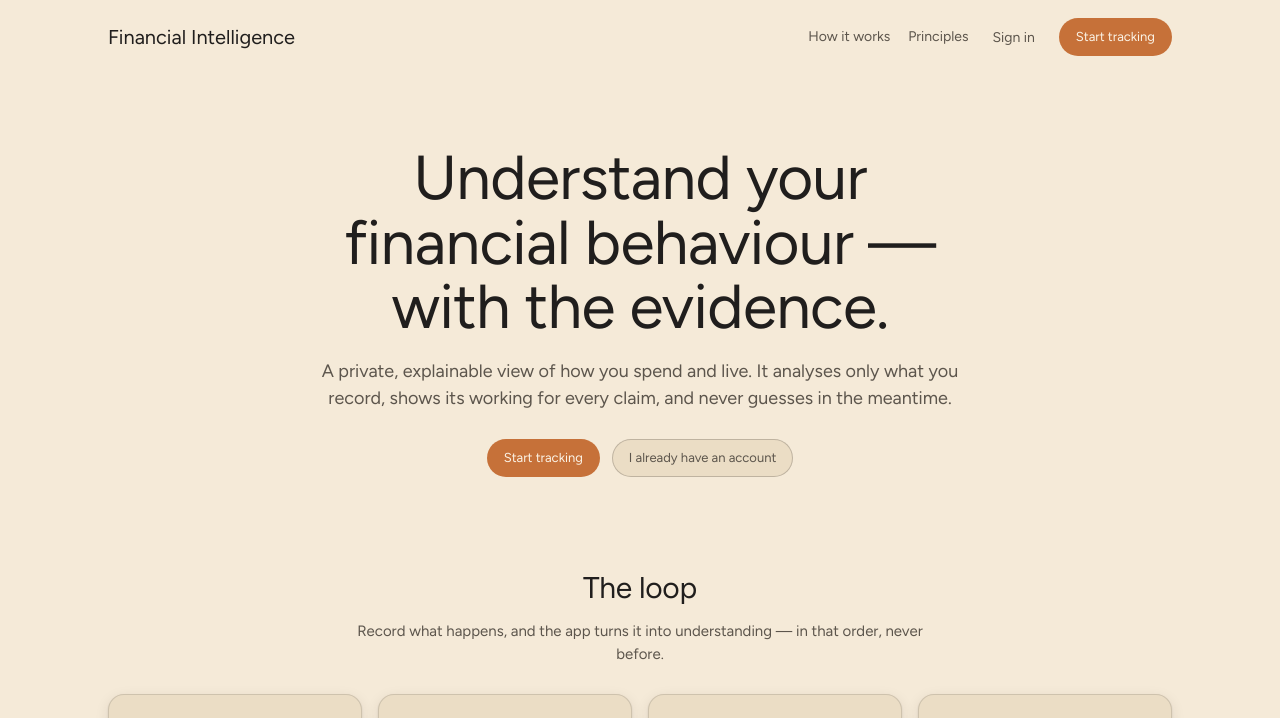
Test: the login gate › surfaces a rejected sign-in without leaving the screen
The width and height of the screenshot is (1280, 718).
Click the button "Sign in".
click(1014, 37)  # box [986, 28, 1041, 47]
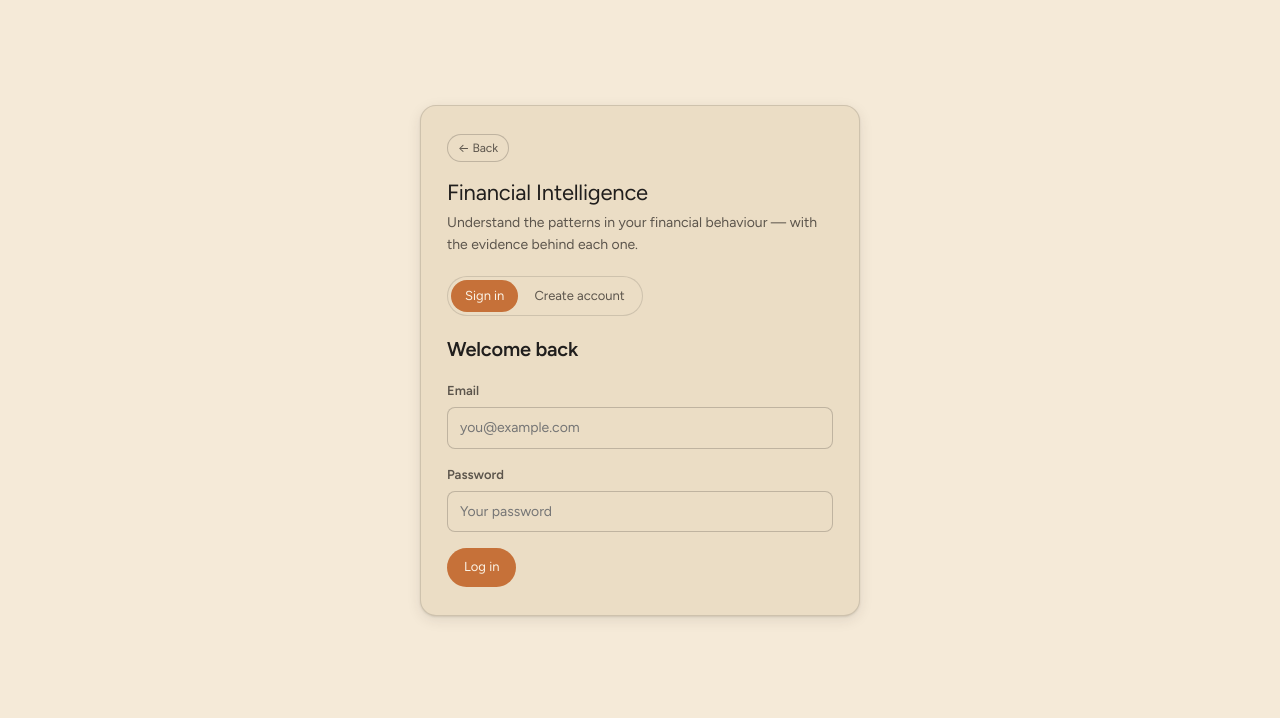
Type "user-a@afi.test" into the field labelled "Email".
click(640, 428); type("user-a@afi.test")  # box [447, 407, 833, 448]
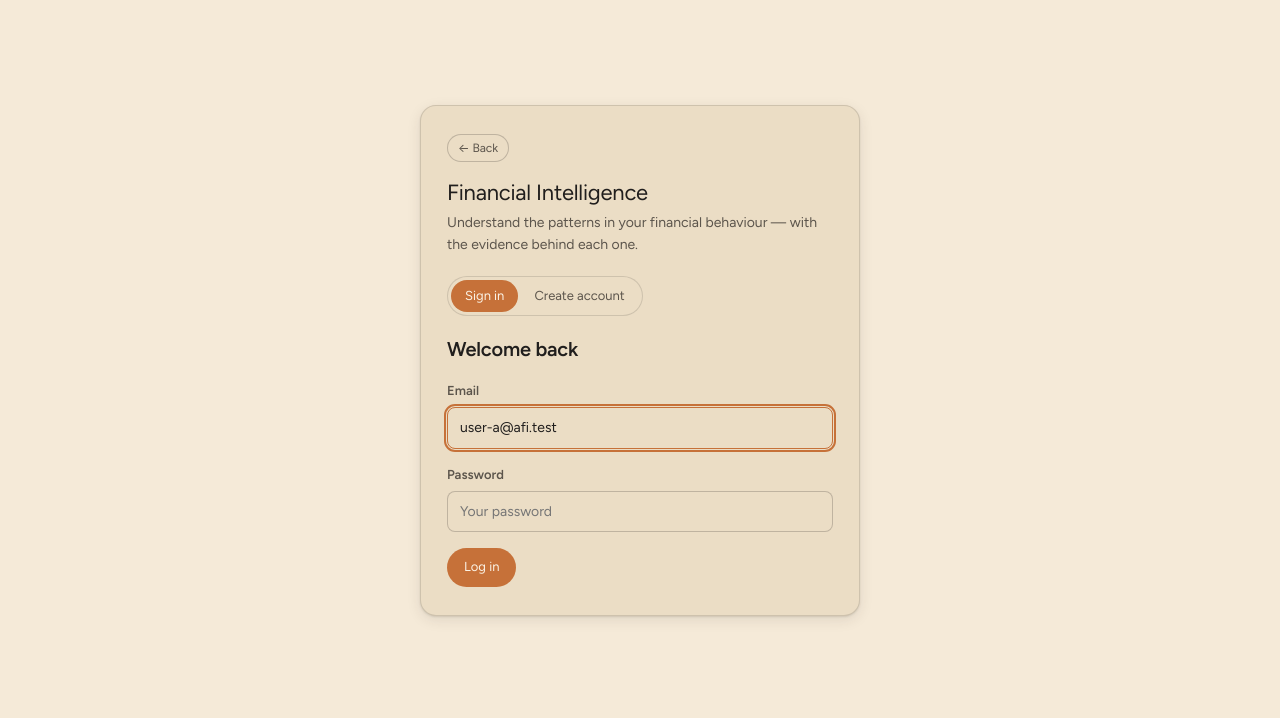
Type "wrong-password" into the password field labelled "Password".
click(640, 512); type("wrong-password")  # box [447, 491, 833, 532]
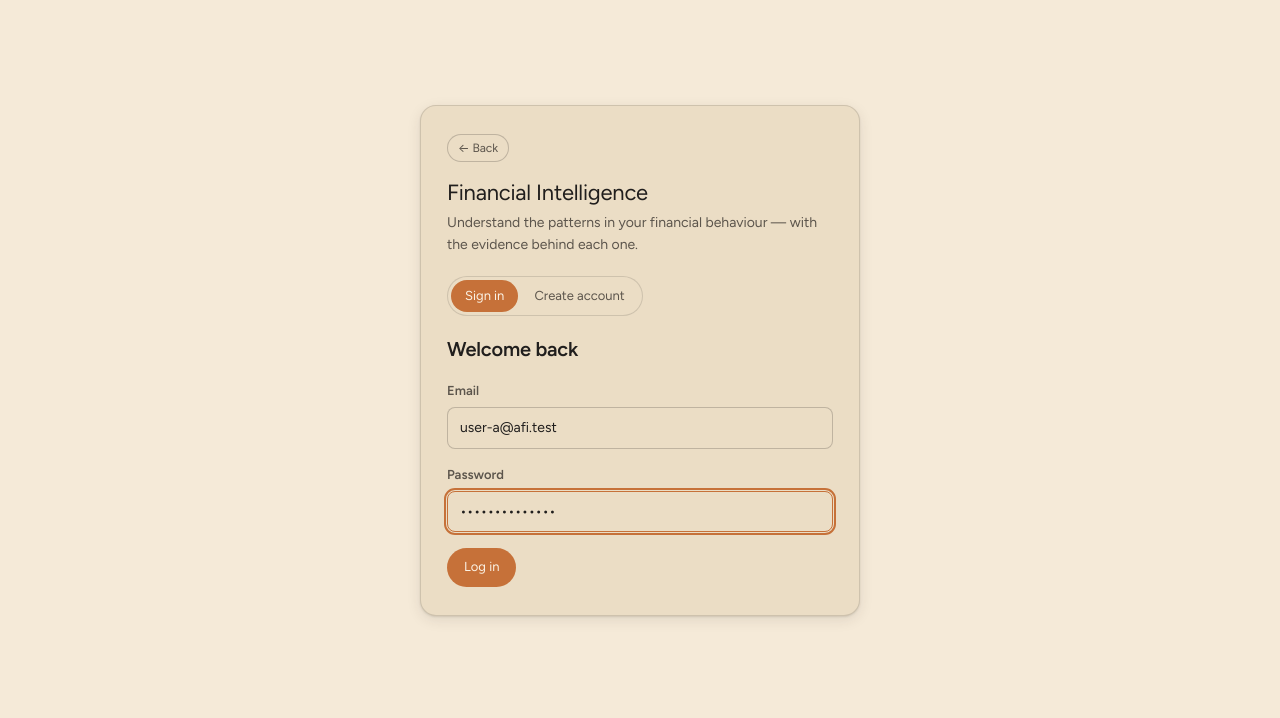
Click the button "Log in".
click(482, 567)  # box [447, 548, 516, 586]
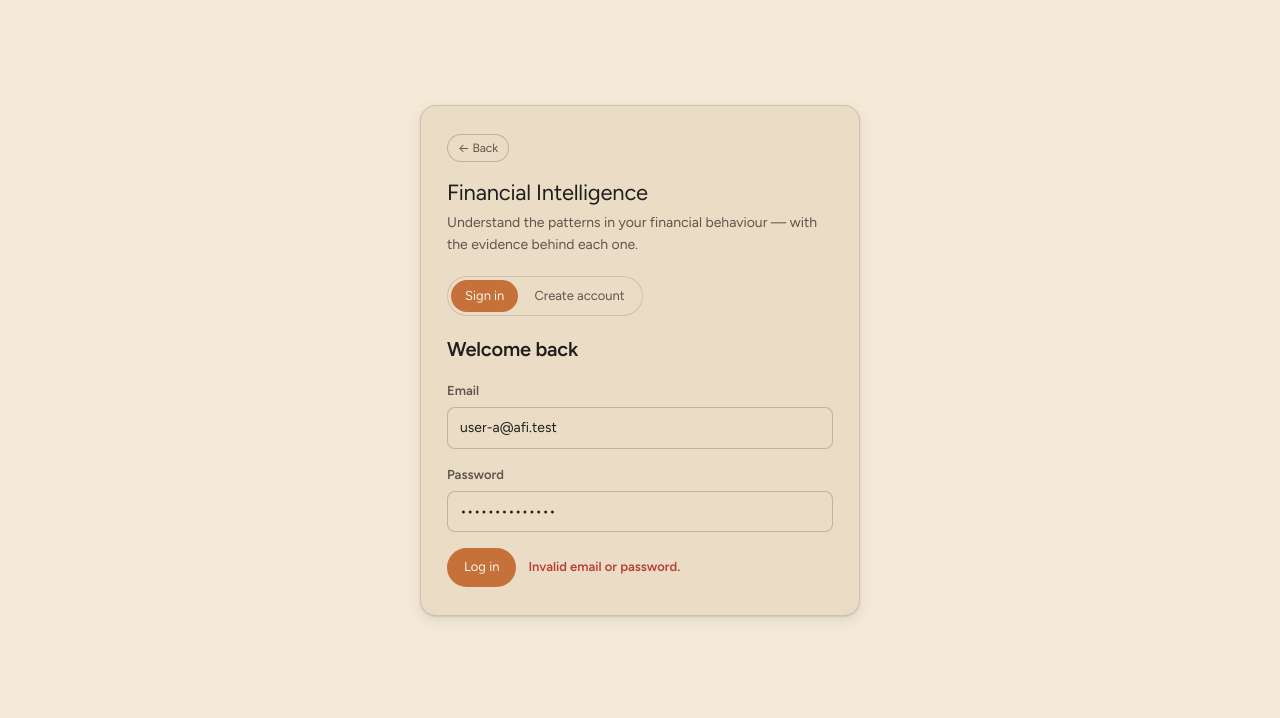
Expected: the heading "Welcome back" is shown, [447, 337, 578, 361]
Expected: the text "Invalid email or password." is shown, [528, 557, 680, 578]
